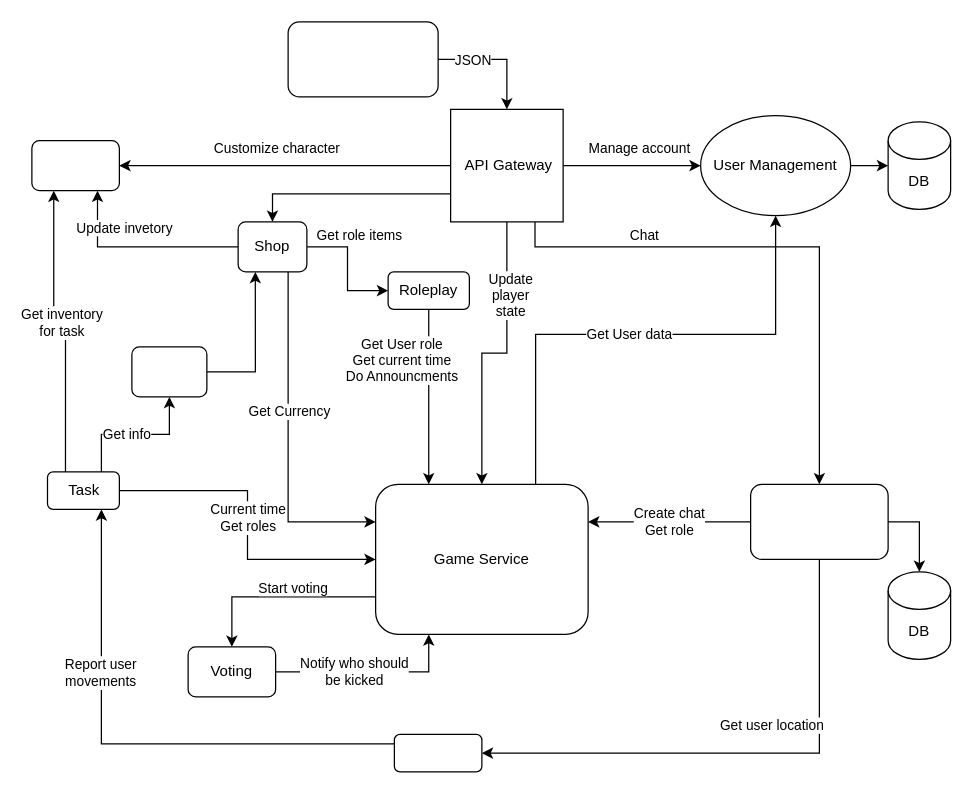
This 973x794 diagram has some shape labels left out. The shapes that lost their labels are listed below. From the top down, each one's box as (x1, y1, x2, y2) in pixels, then its label:
(287, 21, 438, 97): Client
(31, 139, 119, 191): Character
(131, 346, 207, 397): Rumors
(749, 483, 888, 559): Communication
(393, 733, 482, 772): Town
